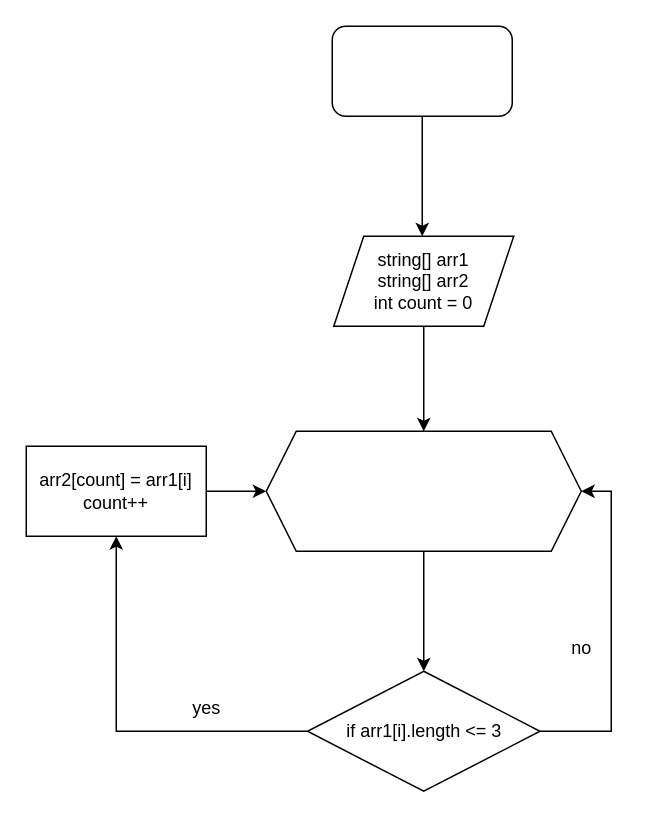
Image size: 650x818. Some labels were removed from this diagram. Each missing label, with the box of its shape:
for (int i = 0; i < arr1.length; i++: (265, 430, 581, 551)
SecondArrayIf: (331, 25, 512, 116)
